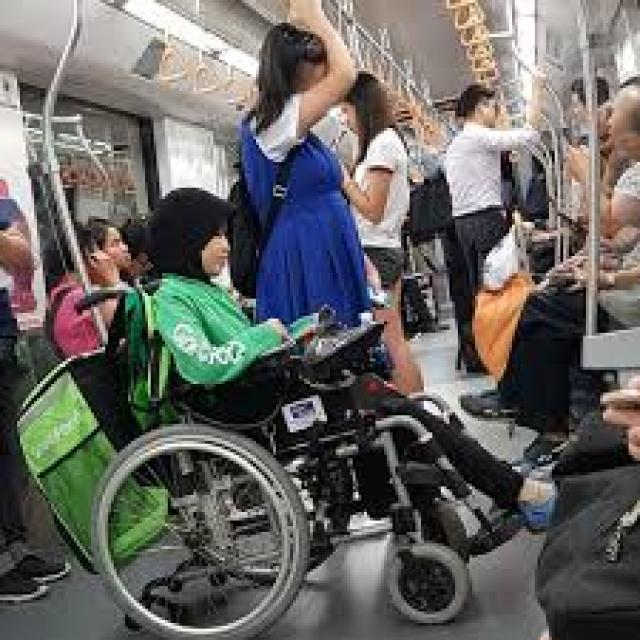wheelchairs: (62, 273, 538, 629)
